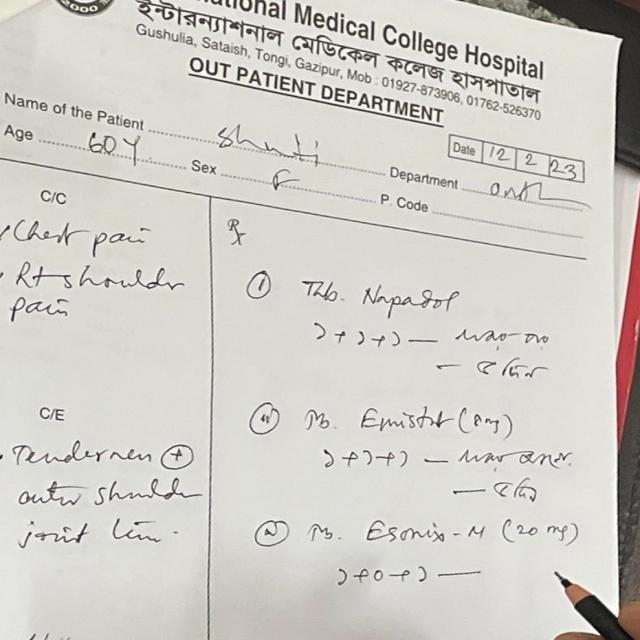Emistat: (351, 403, 454, 438)
Esonix M: (358, 514, 494, 551)
Napadol: (355, 274, 467, 321)
